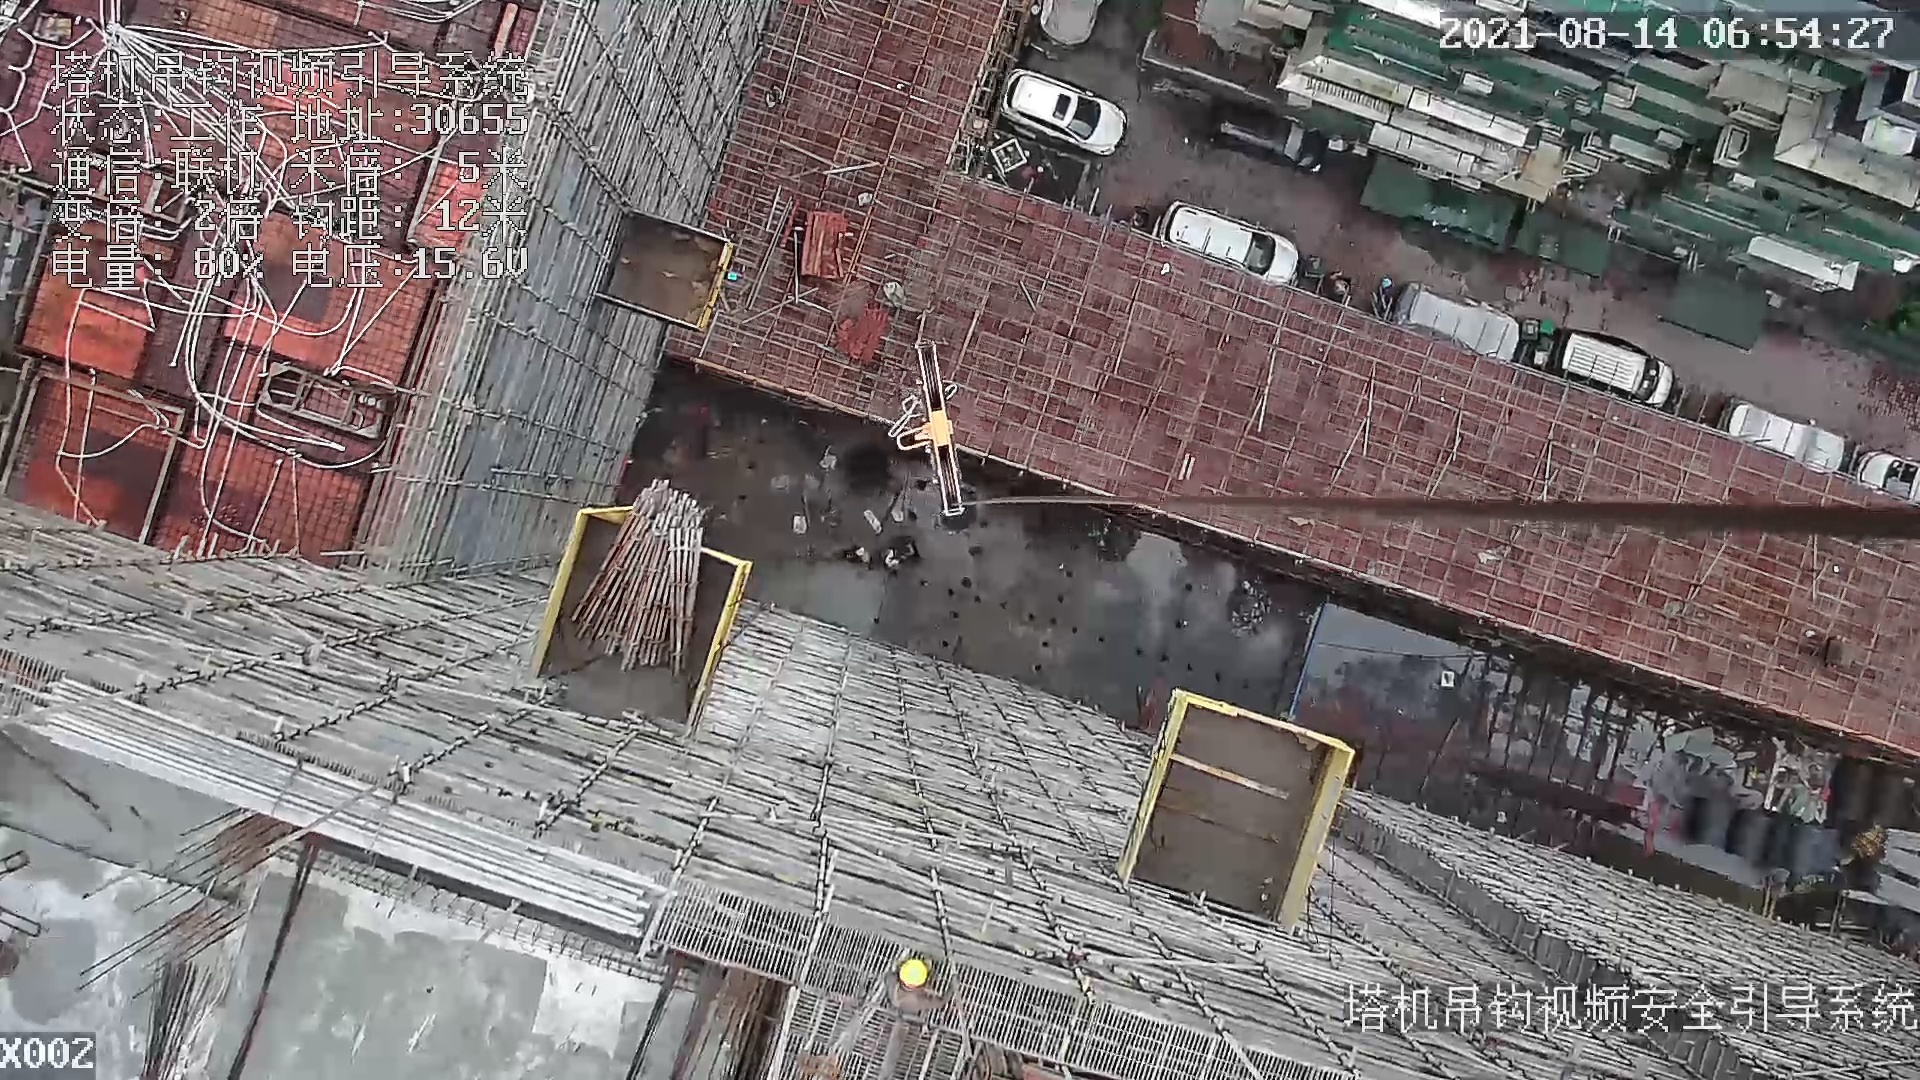helmet: (900, 960, 927, 987)
hook: (899, 339, 983, 518)
person: (879, 953, 958, 1023)
rebar: (29, 674, 643, 945)
scaffold: (571, 479, 702, 675)
